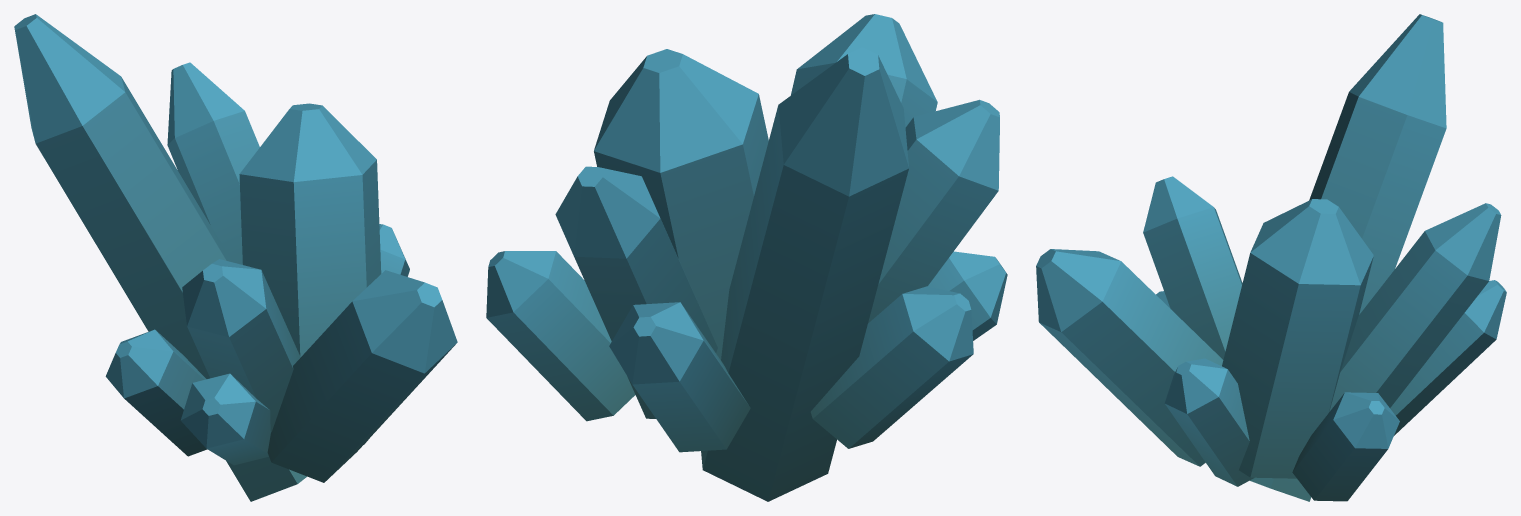
File: CrystalCluster_Medium6.fbx
3 renders of one model, left to right at view 1: azimuth 30°, elevation 25°; view 2: azimuth 150°, elevation 25°; view 3: azimuth 270°, elevation 25°, orthographic. The views are drawn at different scales.
Parts seen in each view (by area): view 1: CrystalCluster_Medium6; view 2: CrystalCluster_Medium6; view 3: CrystalCluster_Medium6.
Boxes of the visible parts, bbox=[...] form: CrystalCluster_Medium6: bbox=[14, 14, 457, 501]; CrystalCluster_Medium6: bbox=[486, 14, 1007, 501]; CrystalCluster_Medium6: bbox=[1036, 14, 1506, 501].
Bounding box in the file's own units: 136 × 166 × 169.
